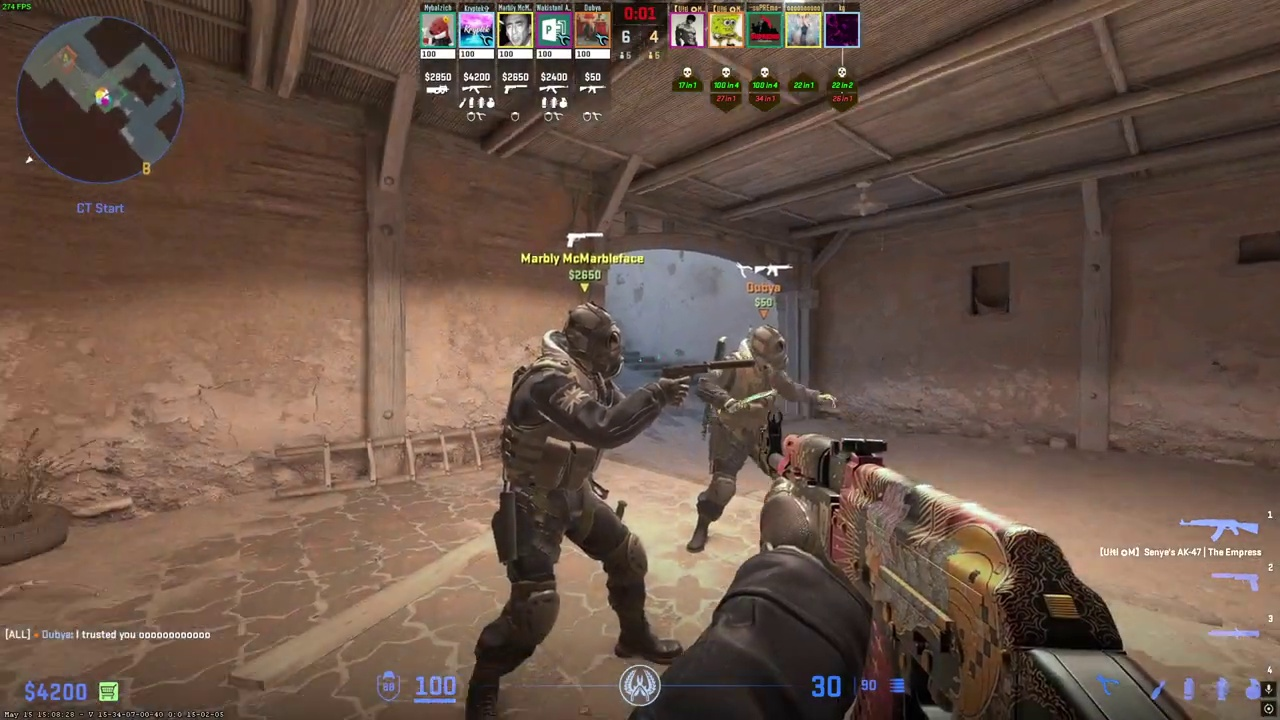CT: (480, 302, 667, 709), (692, 322, 792, 550)
